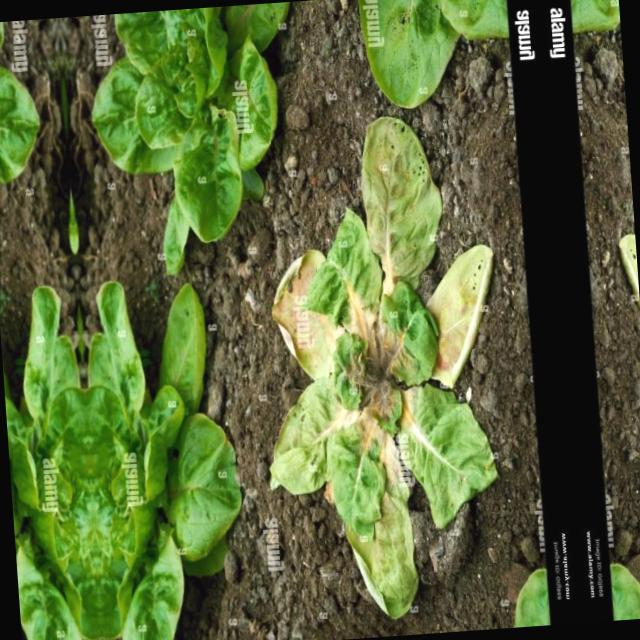healthy: (257, 115, 504, 621), (76, 266, 236, 640), (86, 1, 313, 263), (0, 274, 102, 640), (0, 19, 47, 270), (623, 104, 640, 595)
